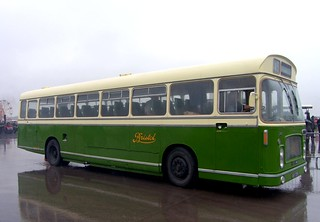bus: (15, 53, 307, 188)
